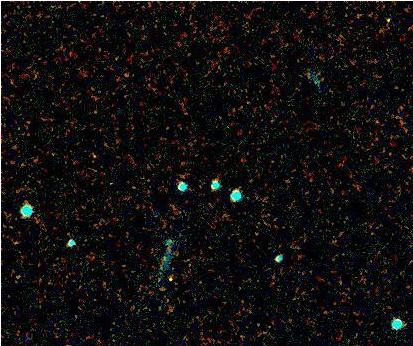star: (148, 262, 178, 292)
